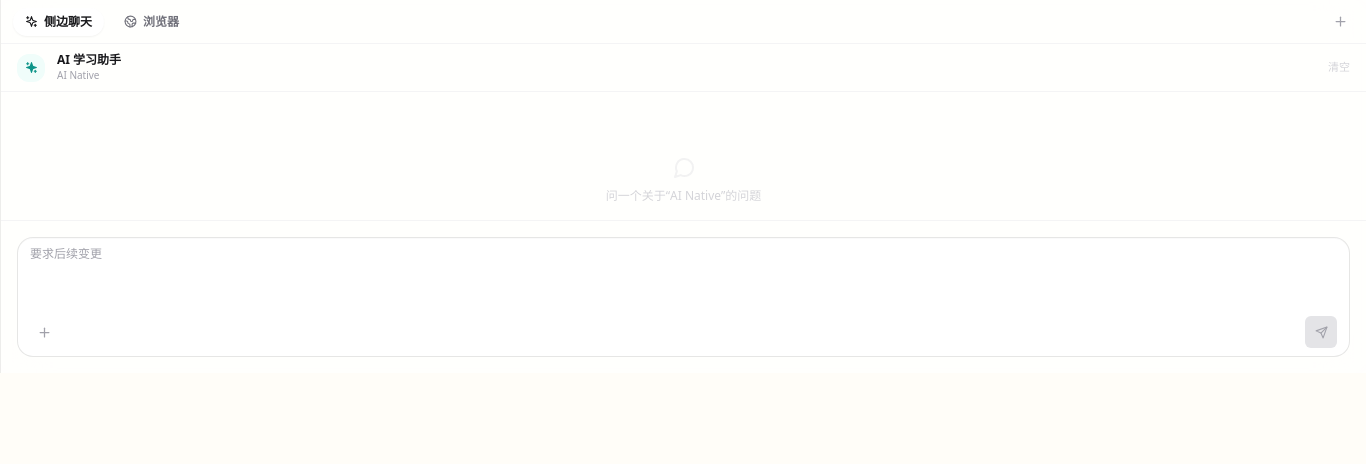
Test: DeepLearnAssistant file attachments › saves the completed assistant conversation as a note
The width and height of the screenshot is (1366, 464).
Type "解释反向传播" into the text box with placeholder "要求后续变更" at (684, 278), box [30,246,1337,310]
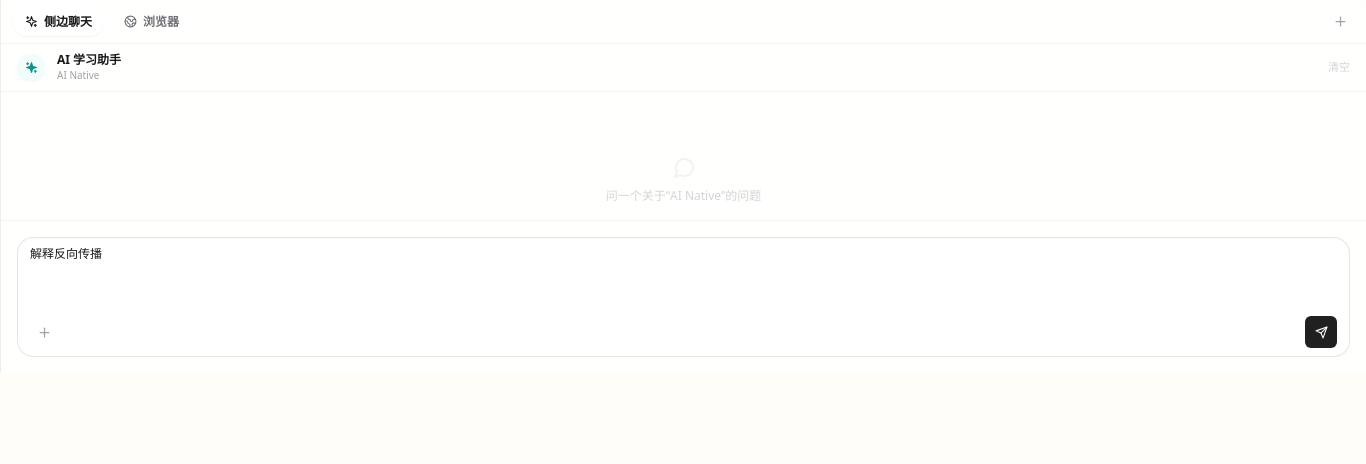
Click the button named "发送" at (1321, 332), box [1305,316,1337,348]
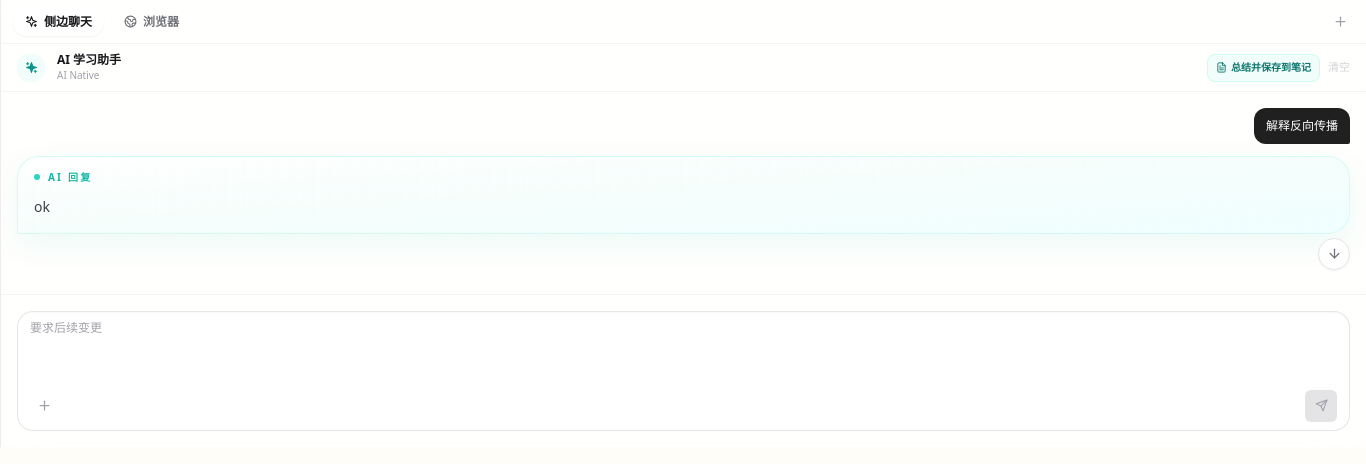
Result: the text "ok" is shown at [34,196,50,216]
Click the button "总结并保存到笔记" at (1264, 68), box [1207,54,1320,82]
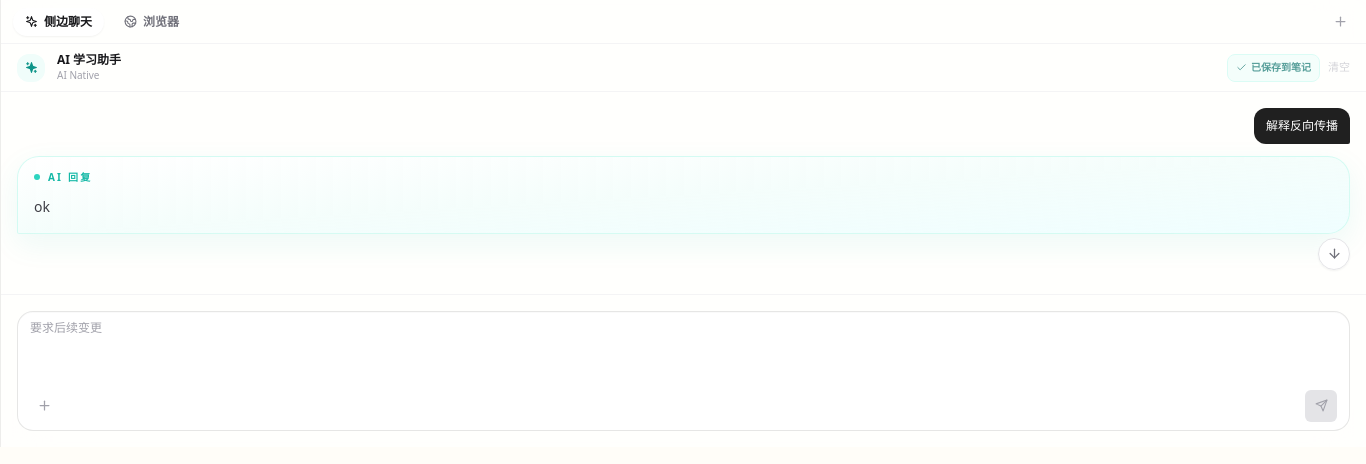
Result: the button "已保存到笔记" is disabled at [1227,54,1320,82]
